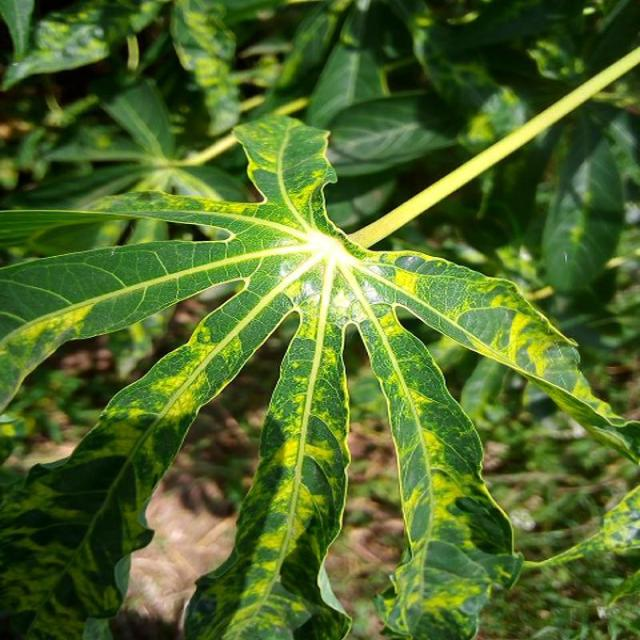Mosaico: (51, 167, 598, 551)
